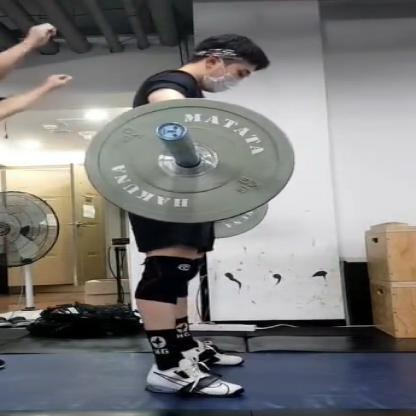barbell: (84, 96, 297, 242)
